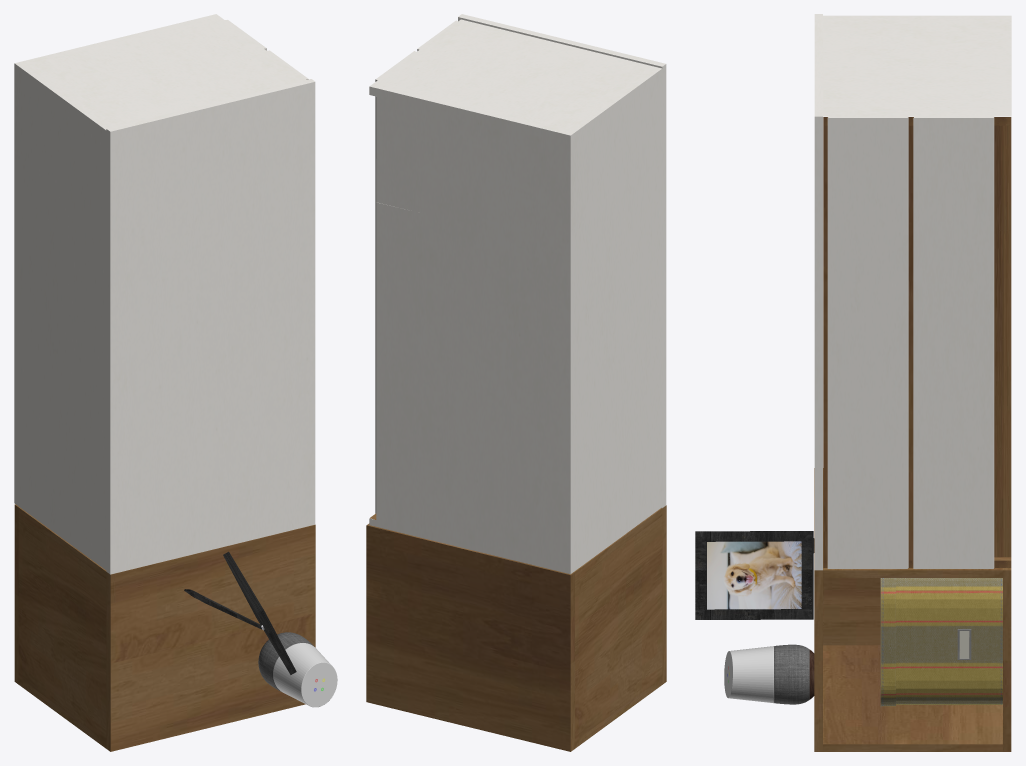
File: cred_compressionjpg.glb
The picture shows the model from 3 angles, left to right: view 1: azimuth 30°, elevation 25°; view 2: azimuth 150°, elevation 25°; view 3: azimuth 270°, elevation 25°; orthographic projection. The views are drawn at different scales.
Parts seen in each view (by area): view 1: Mesh_0; view 2: Mesh_0; view 3: Mesh_0.
Boxes of the visible parts, <box> form: Mesh_0: <box>14,14,337,751</box>; Mesh_0: <box>366,14,666,751</box>; Mesh_0: <box>695,14,1011,751</box>.
Size of the model in its own units: 0.3902 by 1.13 by 0.5081.
9 materials, 8 textured.
